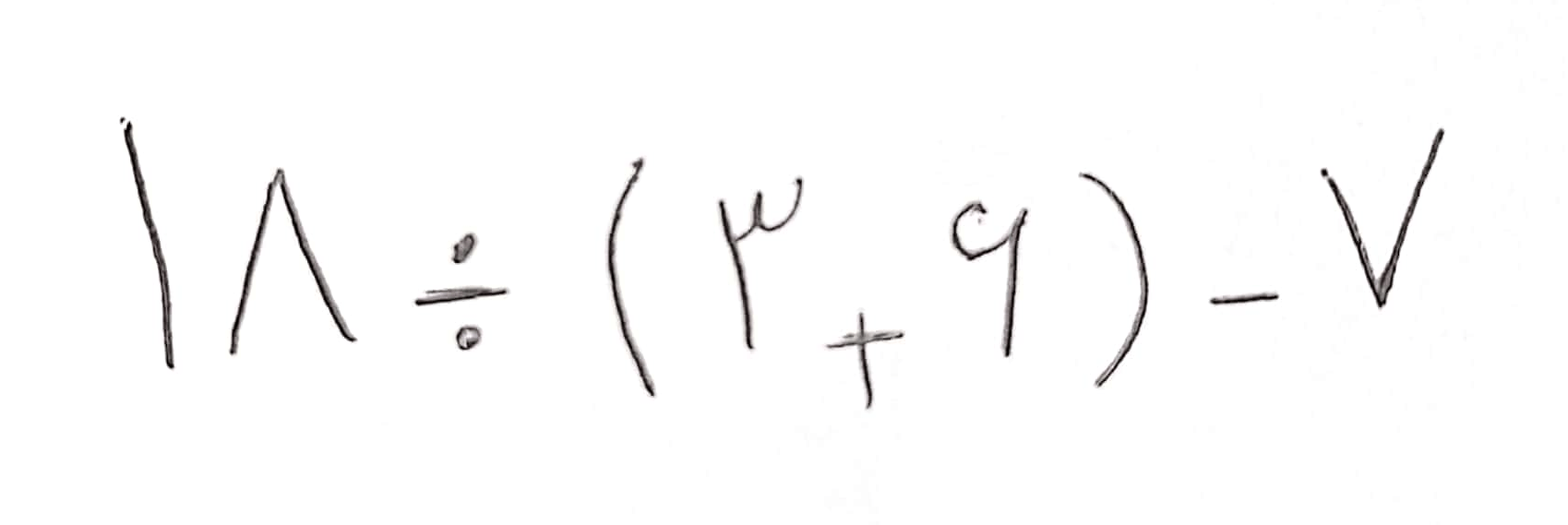character: (230, 167, 357, 354), (1320, 127, 1444, 308), (1077, 172, 1150, 387), (719, 178, 803, 350), (120, 119, 175, 369), (951, 202, 1029, 357), (606, 159, 657, 396), (413, 234, 510, 351), (825, 314, 904, 409), (1211, 292, 1280, 304)
